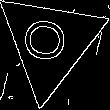O_E: (23, 17, 77, 68)
